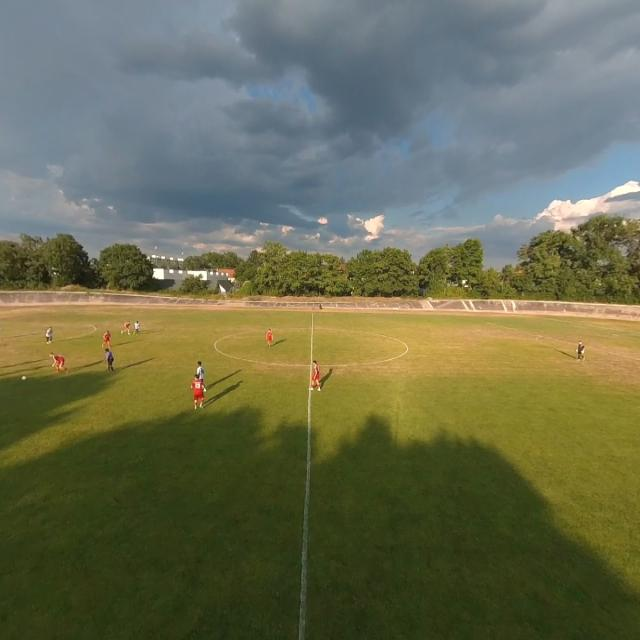ball: (21, 372, 26, 380)
